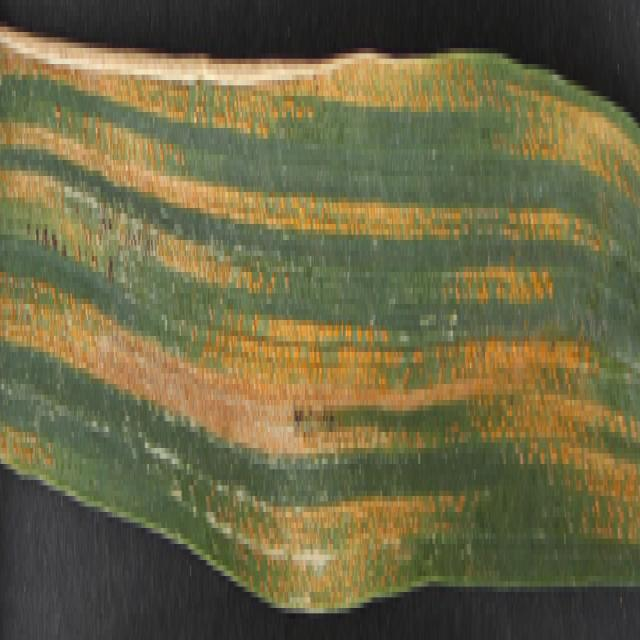leaf rust: (1, 21, 639, 555)
